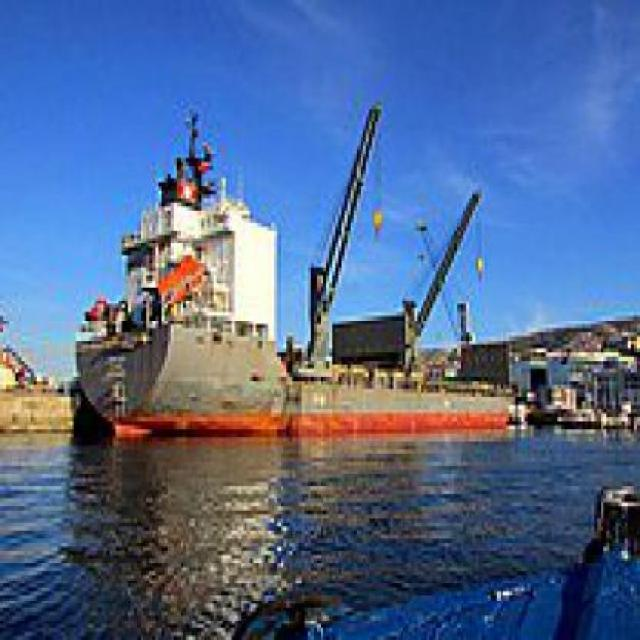container: (77, 86, 537, 447)
